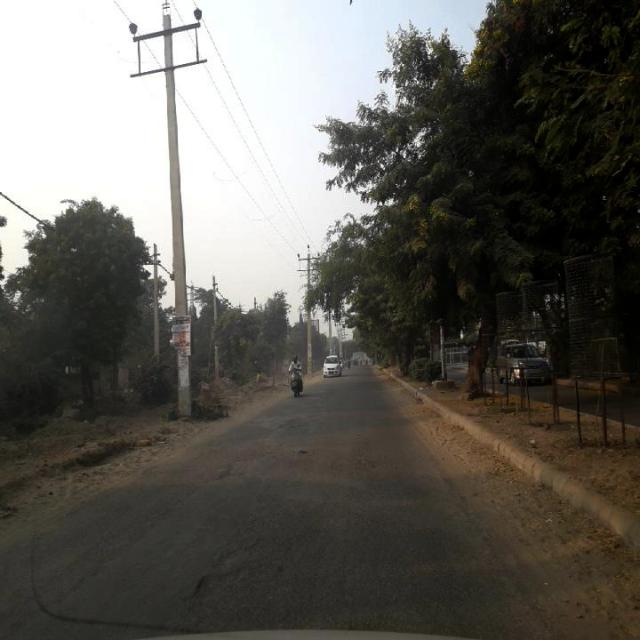pothole: (172, 530, 270, 608)
